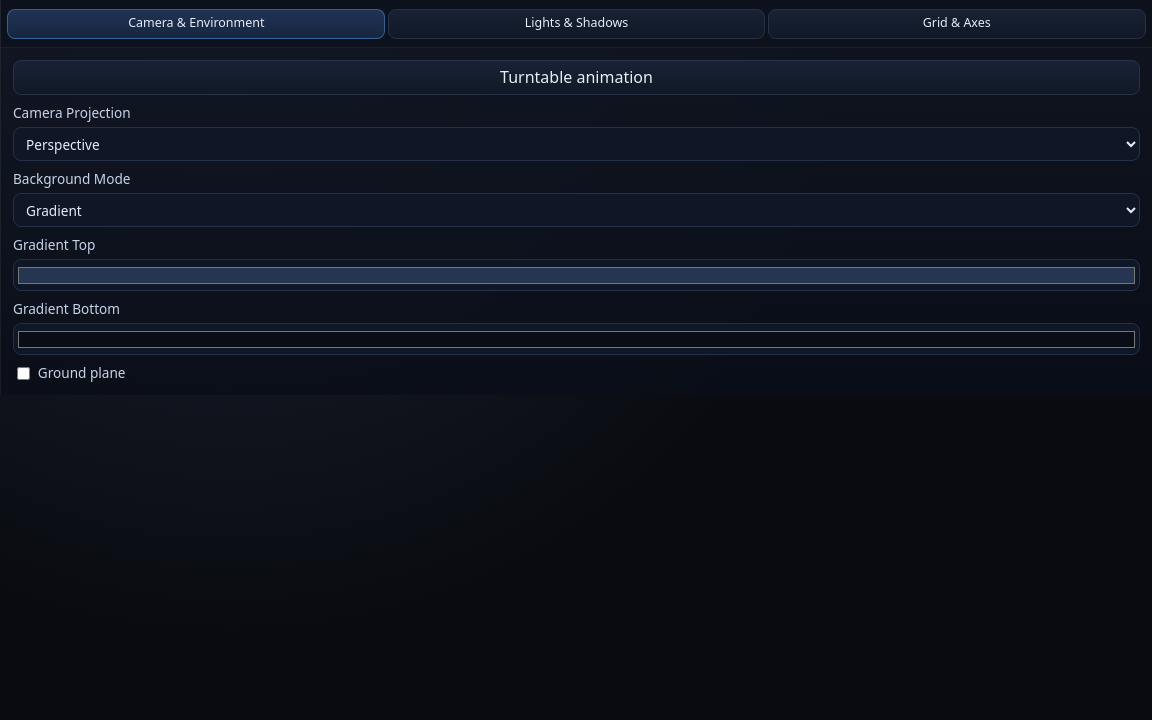
Test: RangeField numeric entry › groups unselected scene controls into camera, lighting, and grid tabs
Expected: the panel shows "Turntable animation", left=13, top=60, right=1140, bottom=95
Expected: the panel shows "Camera Projection", left=13, top=103, right=131, bottom=122
What coordinates should you click on to do the following:
click the tab "Lights & Shadows"
I would click on:
 (576, 24)
Its box is left=388, top=9, right=765, bottom=39.
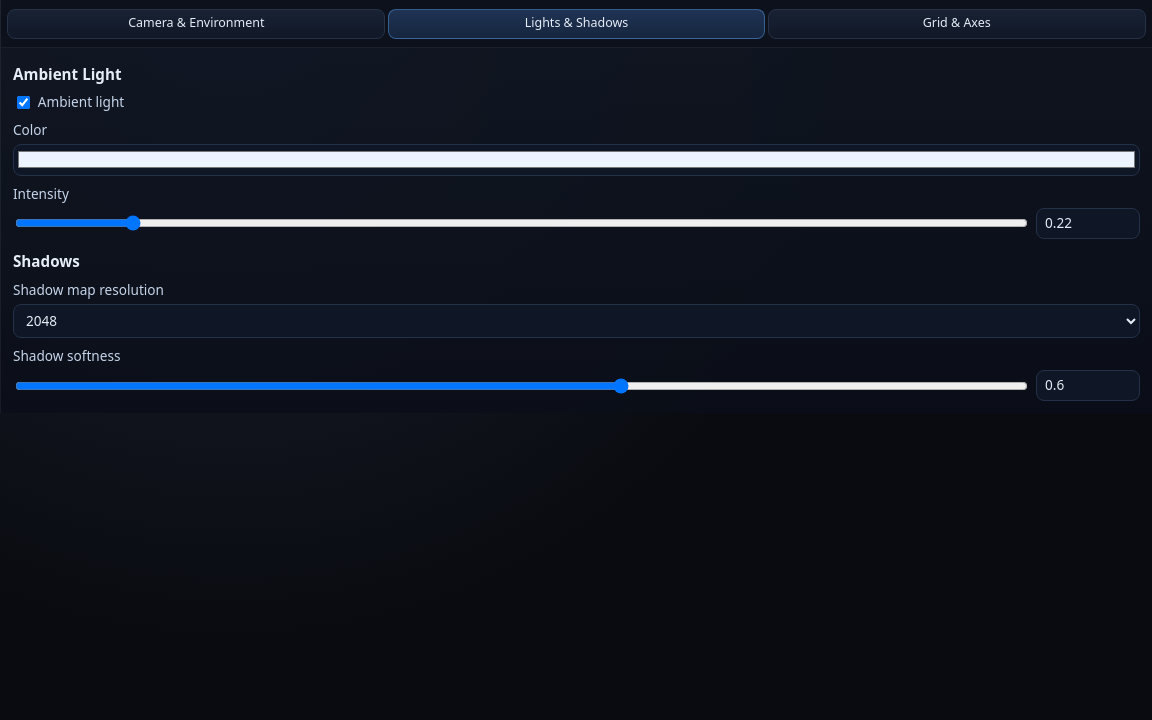
Result: the panel shows "Ambient Light" at left=13, top=64, right=122, bottom=84
Result: the panel shows "Shadow map resolution" at left=13, top=280, right=164, bottom=298
Result: the label no longer shows "Camera Projection"
What coordinates should you click on to do the following:
click the tab "Grid & Axes"
I would click on:
 (957, 24)
Its box is left=768, top=9, right=1146, bottom=39.
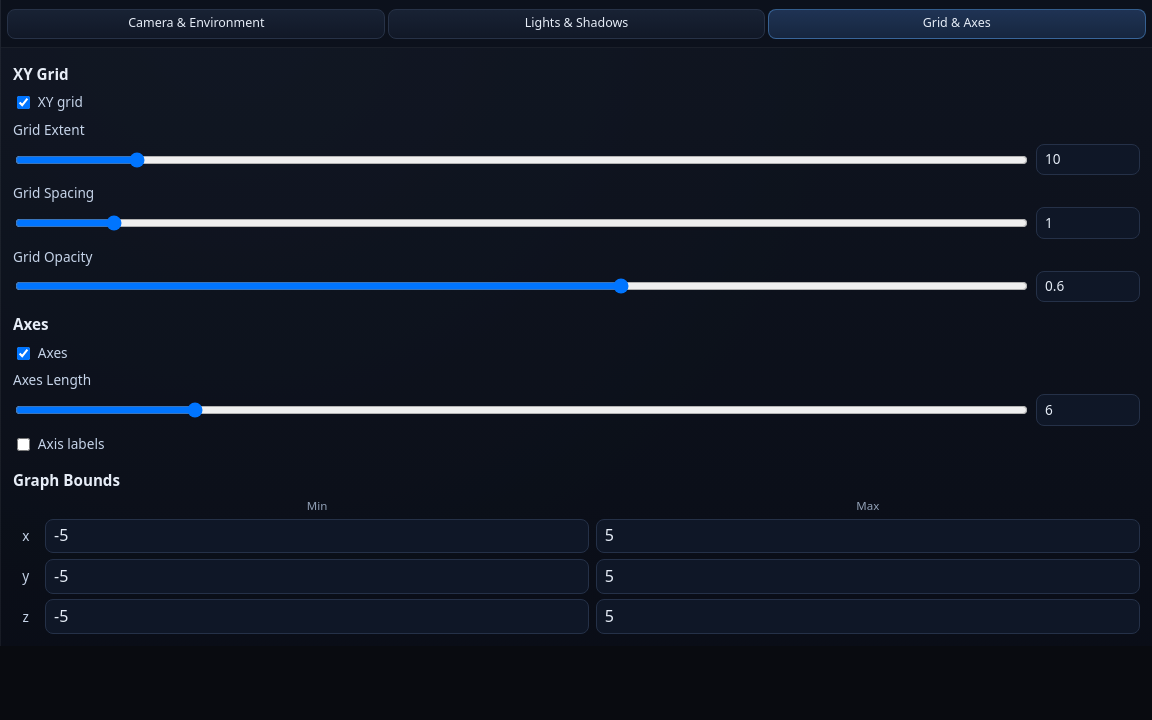
Result: the panel shows "XY Grid" at left=13, top=64, right=69, bottom=84
Result: the panel shows "Axes Length" at left=13, top=370, right=91, bottom=389
Result: the panel shows "Graph Bounds" at left=13, top=470, right=120, bottom=490
